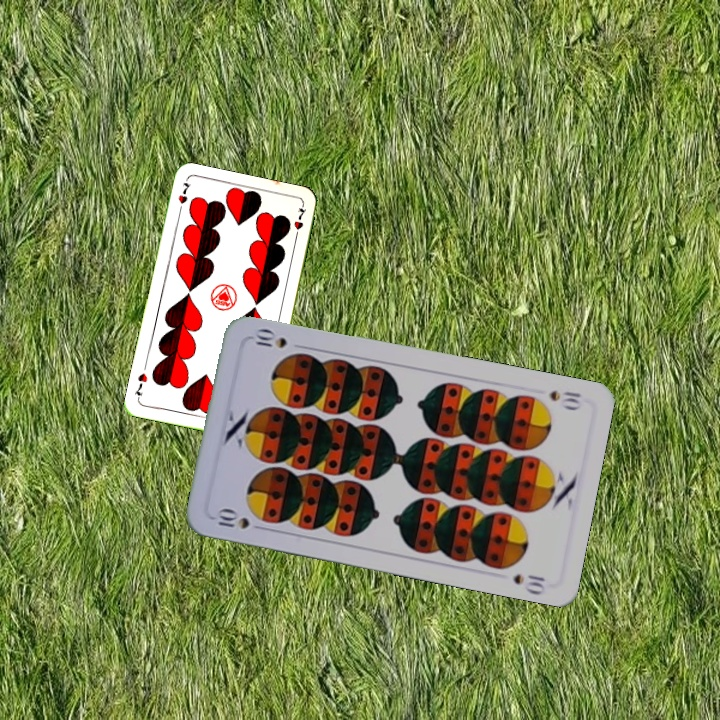H7: (174, 178, 193, 217)
S10: (213, 505, 268, 533), (545, 386, 583, 413)
